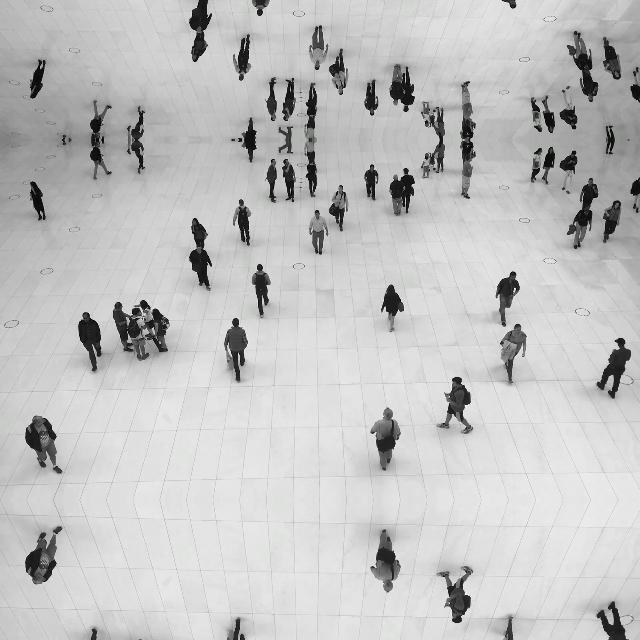person: (435, 376, 473, 434), (435, 566, 473, 624), (596, 338, 632, 398), (26, 416, 62, 474), (26, 526, 62, 584), (370, 408, 402, 470), (370, 530, 402, 592), (500, 324, 528, 384), (224, 318, 248, 382), (78, 312, 102, 372), (596, 601, 632, 640), (496, 271, 520, 327), (126, 307, 150, 361), (188, 244, 212, 292), (380, 284, 404, 332), (112, 302, 134, 352), (251, 264, 271, 318), (571, 206, 593, 250), (571, 30, 593, 74), (232, 198, 252, 246), (232, 34, 252, 82), (309, 209, 329, 255), (309, 25, 329, 71), (602, 200, 622, 244), (602, 36, 622, 80), (331, 184, 349, 232), (331, 48, 349, 96), (188, 0, 212, 35), (151, 308, 169, 352), (560, 150, 578, 194), (560, 86, 578, 130), (399, 168, 416, 214), (399, 66, 416, 112), (89, 146, 111, 180), (89, 100, 111, 134), (389, 174, 406, 216), (389, 64, 406, 106), (500, 615, 528, 640), (29, 181, 46, 221), (579, 178, 599, 212), (29, 59, 46, 99), (579, 68, 599, 102), (264, 158, 278, 204), (264, 76, 278, 122), (139, 300, 155, 340), (282, 159, 296, 203), (282, 77, 296, 121), (363, 164, 379, 202), (461, 154, 474, 200), (461, 80, 474, 126), (191, 29, 209, 62), (363, 78, 379, 115), (191, 218, 209, 250), (223, 617, 248, 640), (542, 147, 556, 186), (542, 95, 556, 134), (130, 140, 146, 174), (130, 106, 146, 140), (530, 148, 544, 184), (530, 96, 544, 132), (432, 140, 446, 174), (432, 106, 446, 140), (306, 160, 318, 198), (306, 82, 318, 120), (241, 116, 257, 140), (630, 176, 640, 214), (630, 66, 640, 104), (241, 140, 257, 163), (303, 140, 317, 166), (303, 114, 317, 140), (420, 100, 432, 128), (420, 153, 432, 180), (251, 0, 271, 16), (460, 140, 474, 162), (460, 118, 474, 140), (77, 628, 102, 640), (495, 0, 520, 9), (278, 140, 294, 154), (278, 126, 294, 140), (604, 140, 616, 156), (604, 124, 616, 140), (126, 140, 132, 154), (126, 126, 132, 140), (126, 639, 150, 640)
